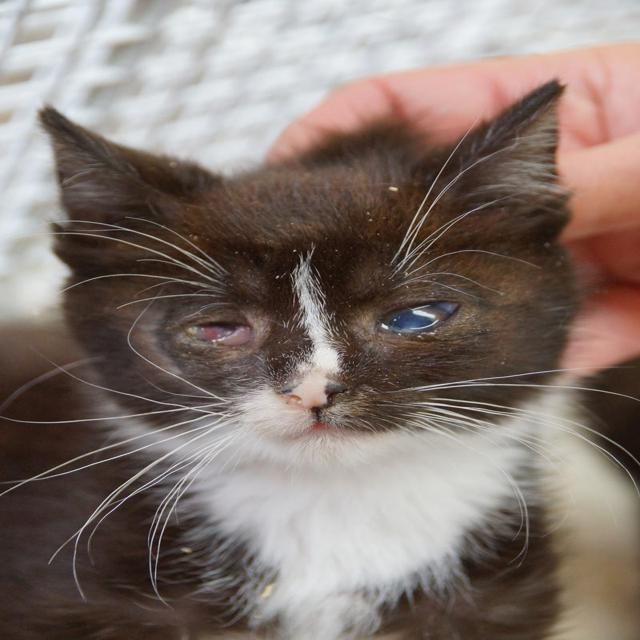eye_infection: (177, 309, 255, 357)
